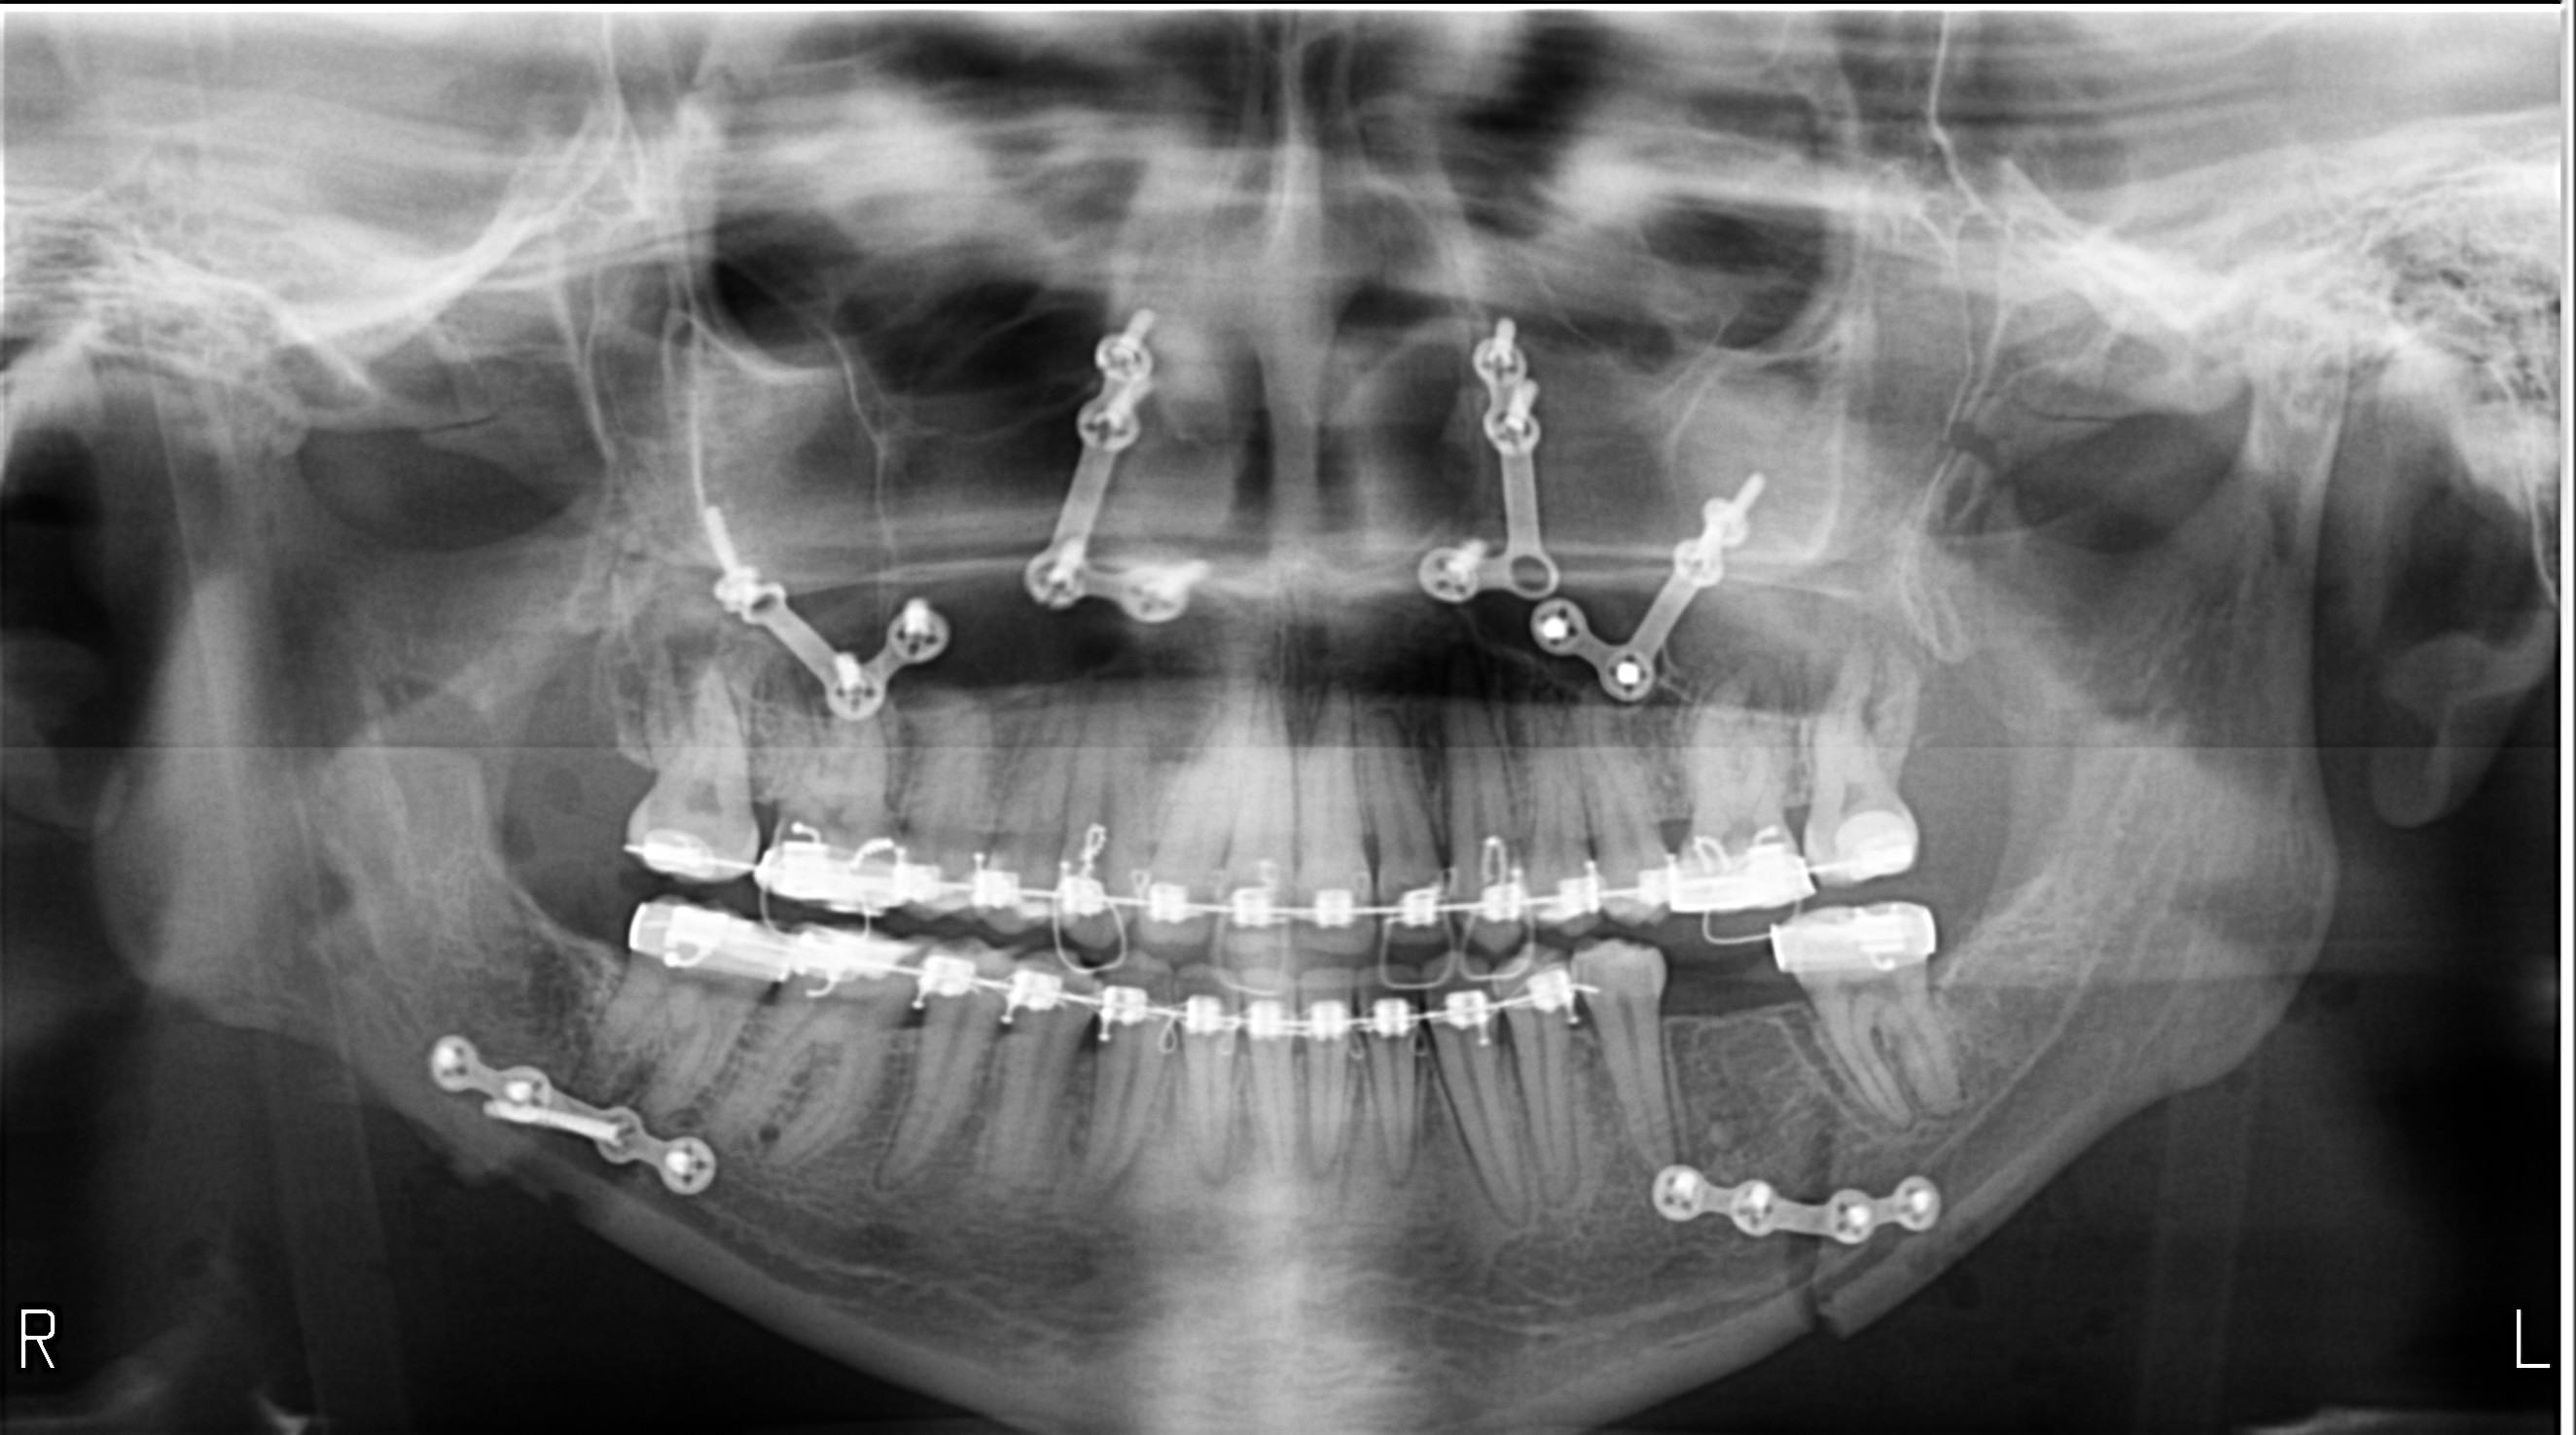ORD: (597, 862, 1638, 1069), (590, 785, 1917, 945)
SRD: (1505, 435, 1809, 732), (390, 998, 767, 1237), (673, 498, 989, 742), (1011, 309, 1223, 647), (1408, 285, 1590, 643), (1615, 1129, 2000, 1297)
